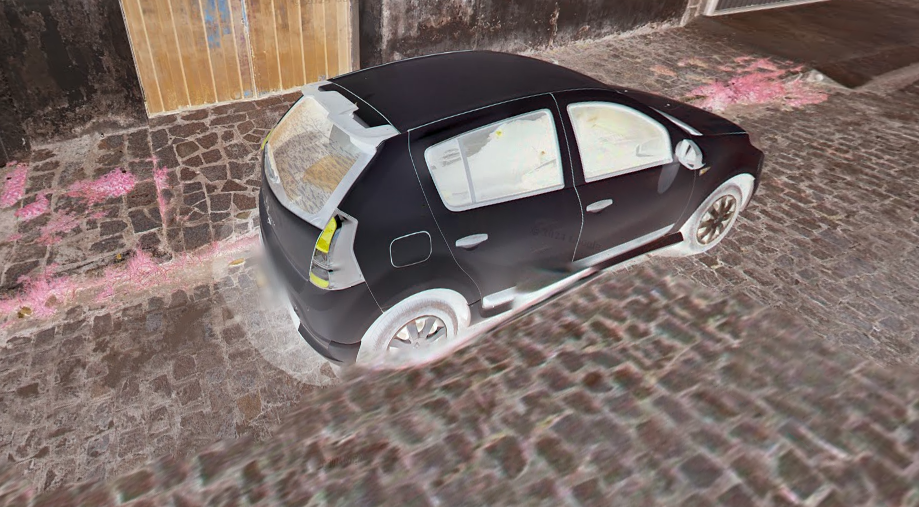car: (254, 45, 766, 378)
